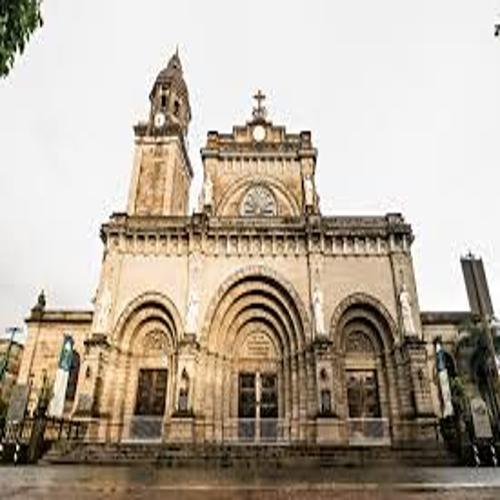Manila Cathedral Church: (56, 34, 430, 464)
